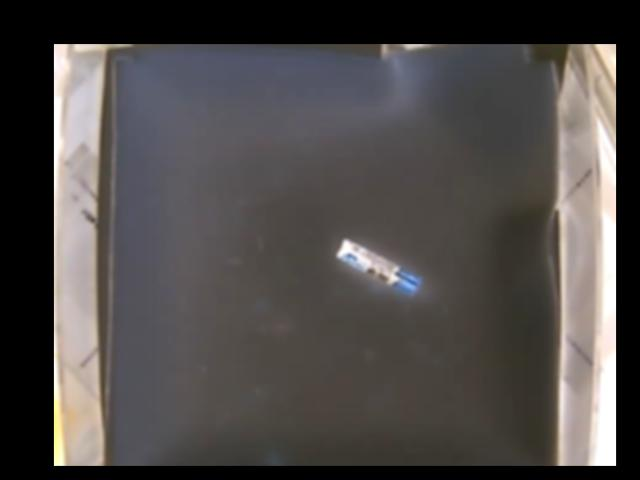Battery: (335, 238, 421, 297)
